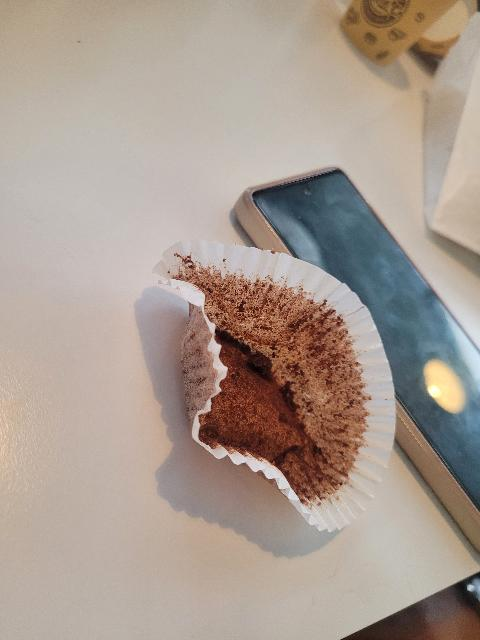Kagit: (134, 233, 400, 533)
